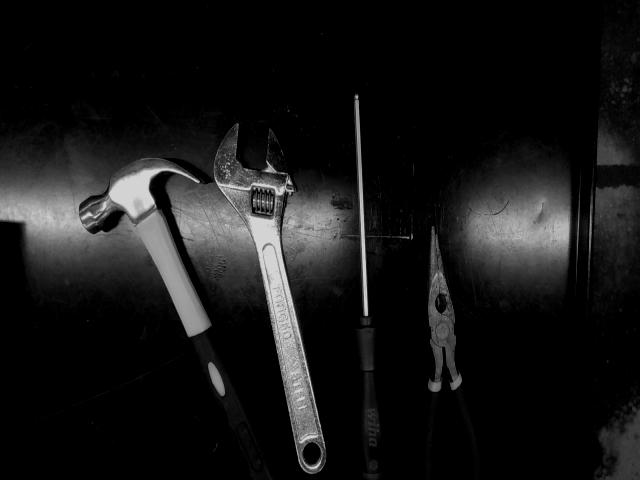Adjustable spanner: (214, 123, 326, 473)
Hammer: (79, 158, 281, 480)
Needle-nose pliers: (421, 228, 484, 480)
Screwdriver: (354, 94, 384, 480)
